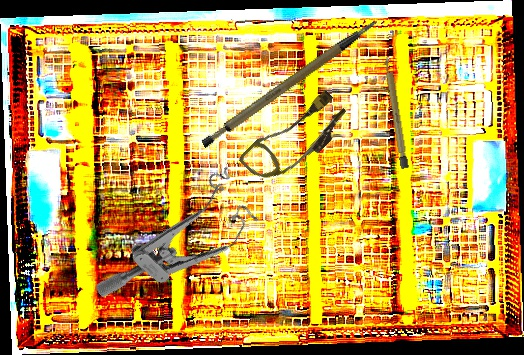Cannula: (237, 80, 354, 197)
Scalpel Handle: (188, 19, 394, 151), (383, 55, 409, 169)
Speculum: (93, 154, 271, 341)
